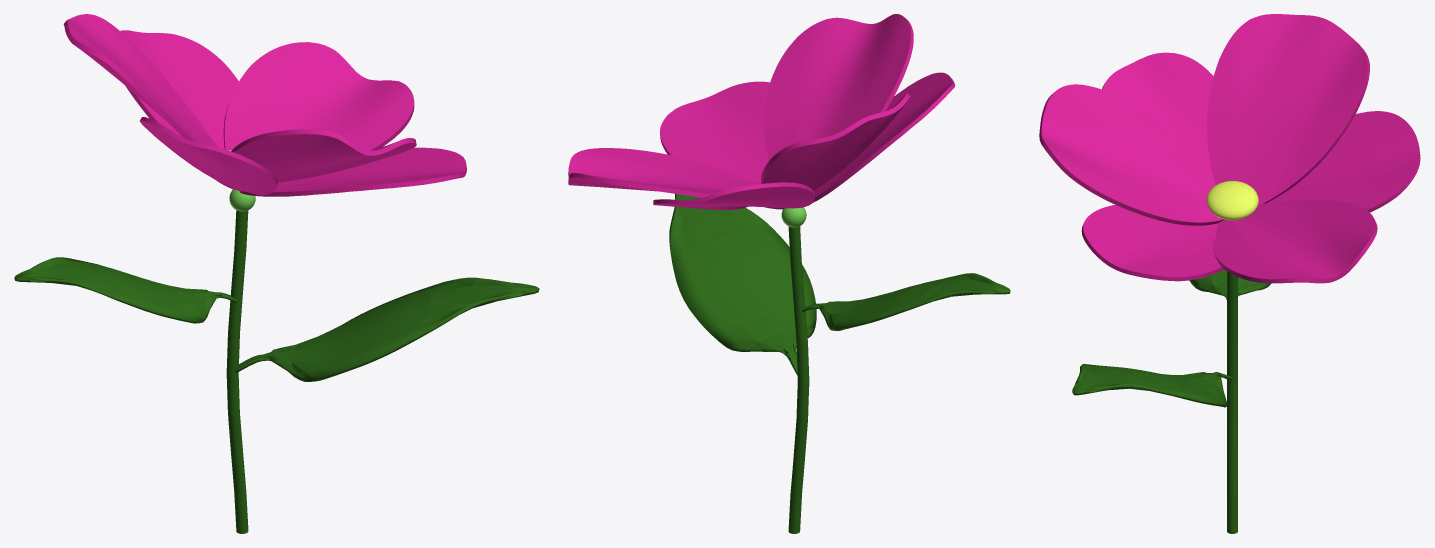
3 views of the same model, side by side, from view 1: azimuth 30°, elevation 25°; view 2: azimuth 150°, elevation 25°; view 3: azimuth 270°, elevation 25° (orthographic). The views are drawn at different scales.
Visible parts, largest first — view 1: f12; view 2: f12; view 3: f12.
Part boxes in pixels (x1,y1,x2,y2): f12: (14, 14, 539, 533); f12: (568, 14, 1010, 533); f12: (1039, 14, 1420, 533).
Bounding box in the file's own units: 0.6797 × 0.7466 × 0.5625.
